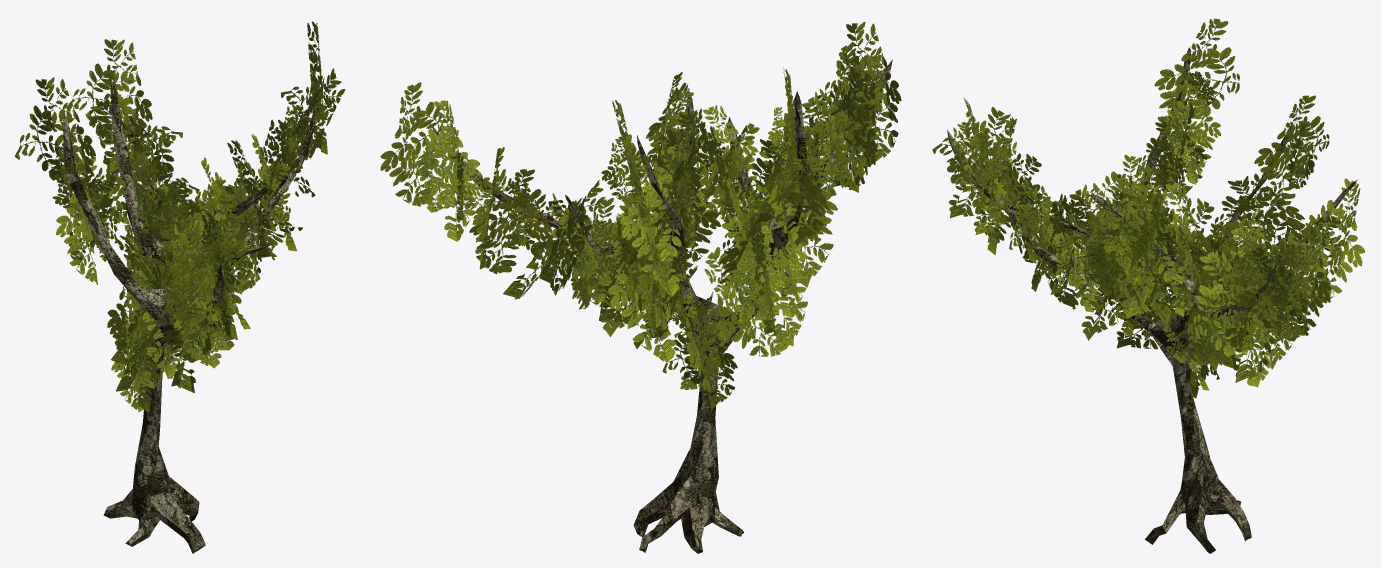
The model's file is mythe plattegrond 1.fbx.
3 renders of one model, left to right at view 1: azimuth 30°, elevation 25°; view 2: azimuth 150°, elevation 25°; view 3: azimuth 270°, elevation 25°, orthographic. The views are drawn at different scales.
Parts seen in each view (by area): view 1: tree_001; view 2: tree_001; view 3: tree_001.
Boxes of the visible parts, x1=… form: tree_001: x1=14, y1=21, x2=345, y2=553; tree_001: x1=380, y1=22, x2=901, y2=553; tree_001: x1=932, y1=18, x2=1364, y2=553.
Bounding box in the file's own units: 1418 × 1890 × 1552.
